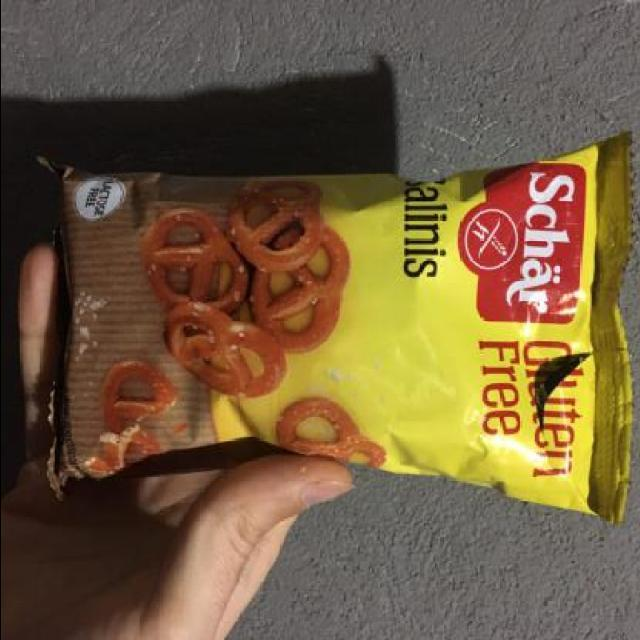Salatini: (30, 123, 638, 520)
